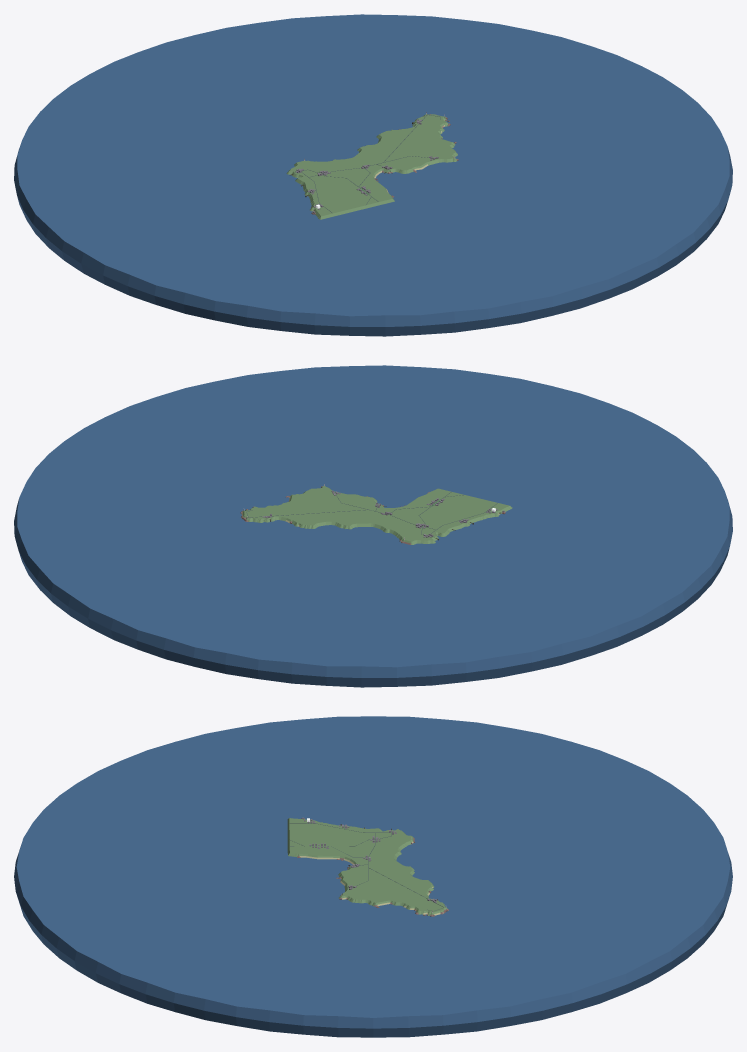
The picture shows the model from 3 angles, top to bottom: view 1: azimuth 30°, elevation 25°; view 2: azimuth 150°, elevation 25°; view 3: azimuth 270°, elevation 25°; orthographic projection.
Visible parts, largest first — view 1: Blue Background, Landmass; view 2: Blue Background, Landmass; view 3: Blue Background, Landmass.
Boxes of the visible parts, x1,y1,x2,y2 form: Blue Background: (14, 14, 732, 336); Landmass: (286, 114, 457, 219); Blue Background: (14, 365, 732, 687); Landmass: (241, 486, 512, 544); Blue Background: (14, 716, 732, 1037); Landmass: (287, 818, 448, 915).
Bounding box in the file's own units: 13.01 × 0.5156 × 13.01.
